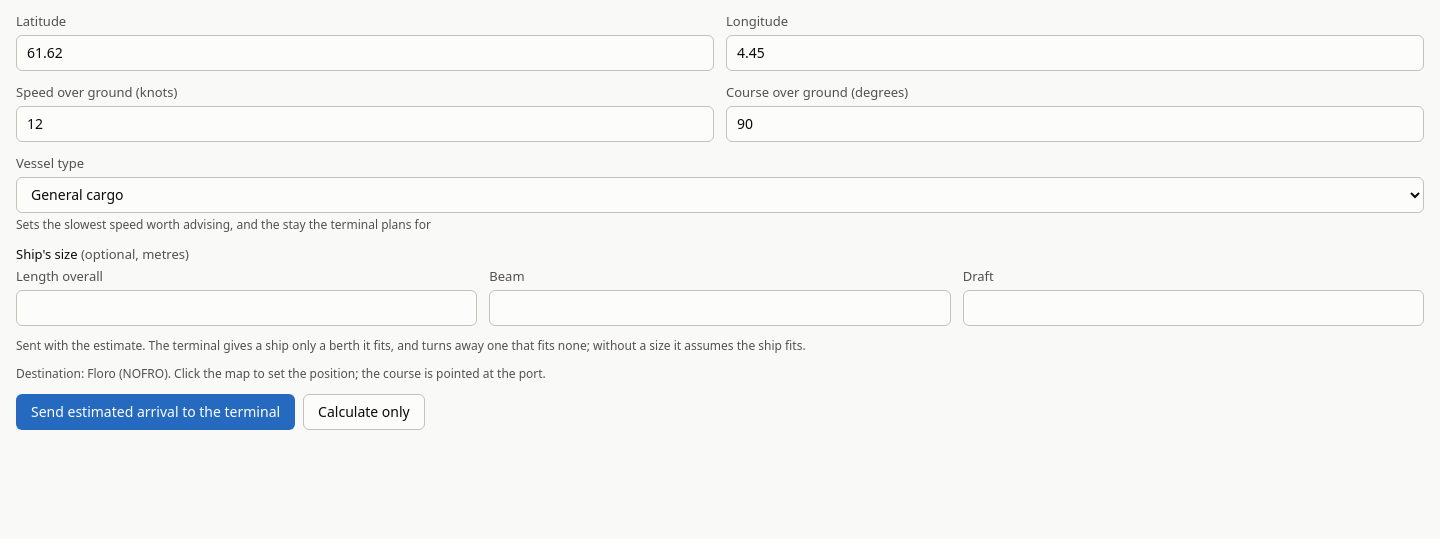
Test: PositionForm › sends the ship's size with the estimate when one is given, and checks it first
The image size is (1440, 539).
In the field labelled "Length overall": (247, 308) [16,290,477,326], type "120"
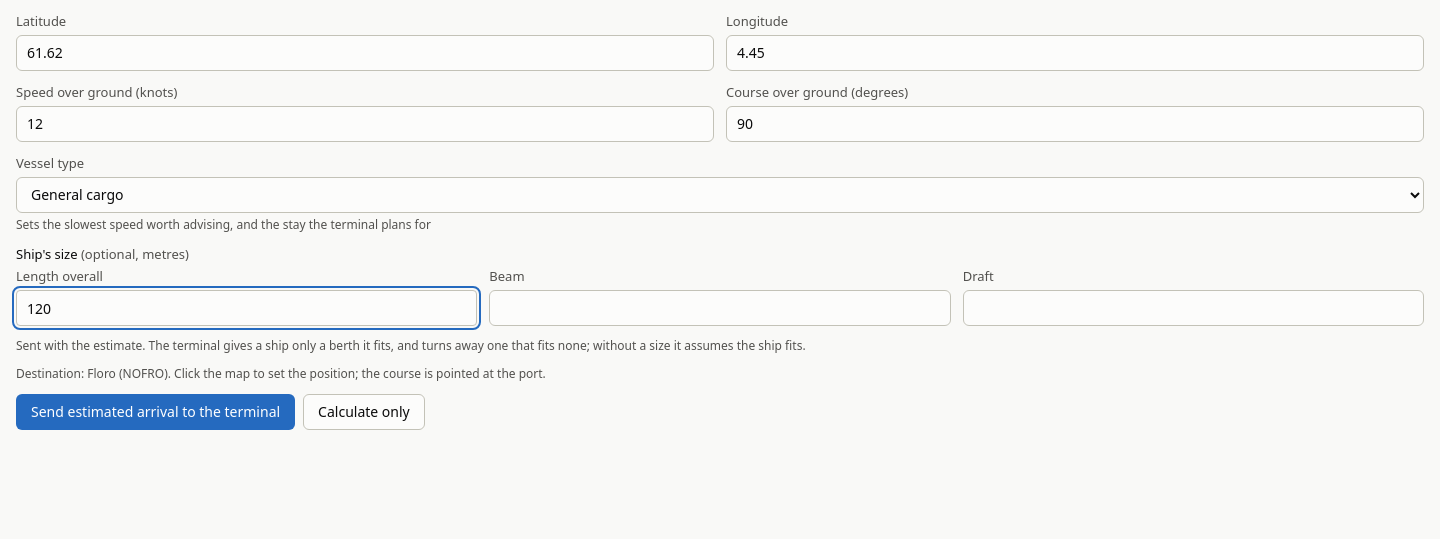
In the field labelled "Draft": (1193, 308) [963,290,1424,326], type "-2"
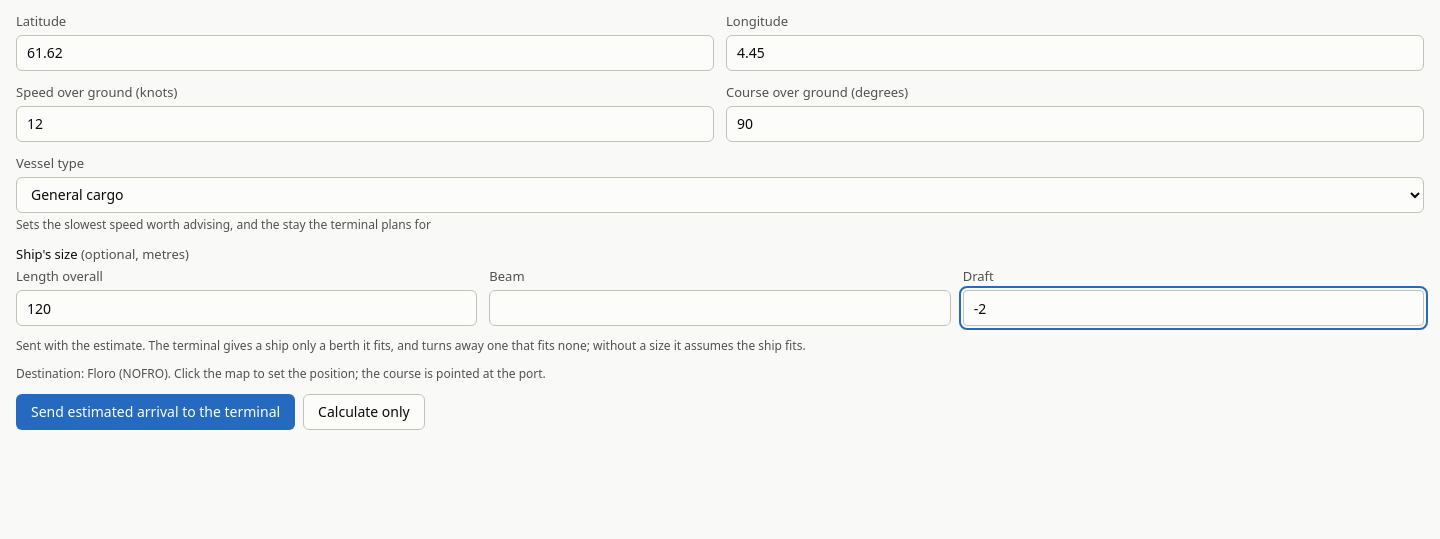
Click the button "Send estimated arrival to the terminal": (156, 412) [16,394,295,430]
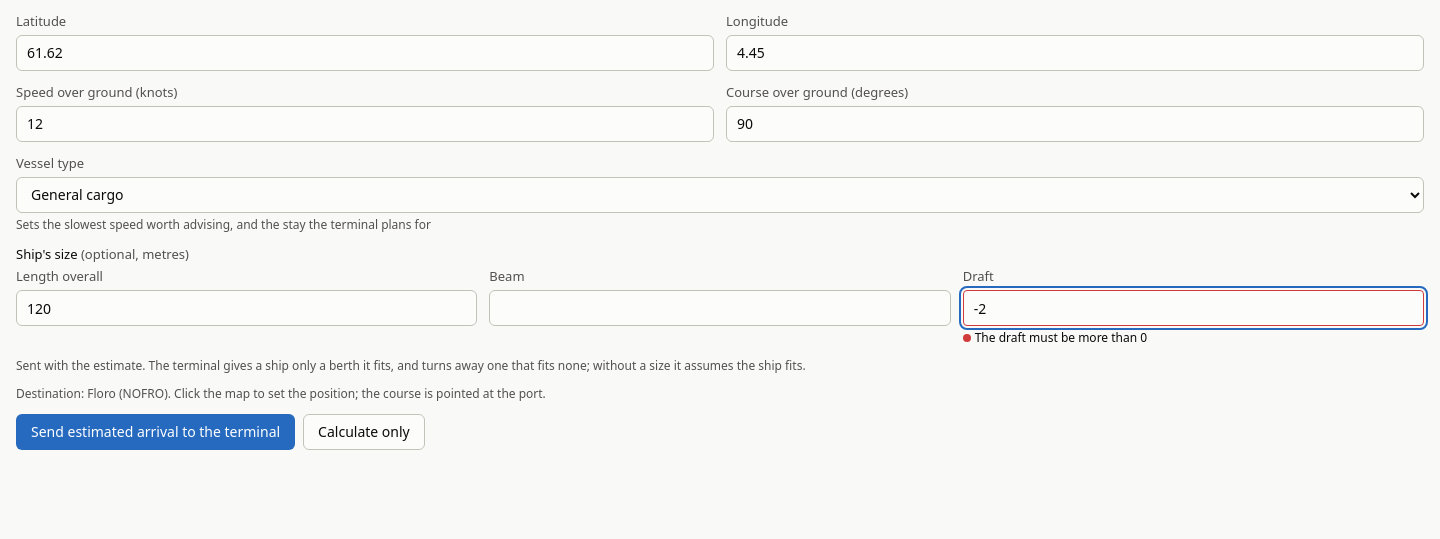
Now the text "The draft must be more than 0" is shown, box [963,329,1147,346]
Replace the text in the field labelled "Draft" with "7.5": (1193, 308) [963,290,1424,326]
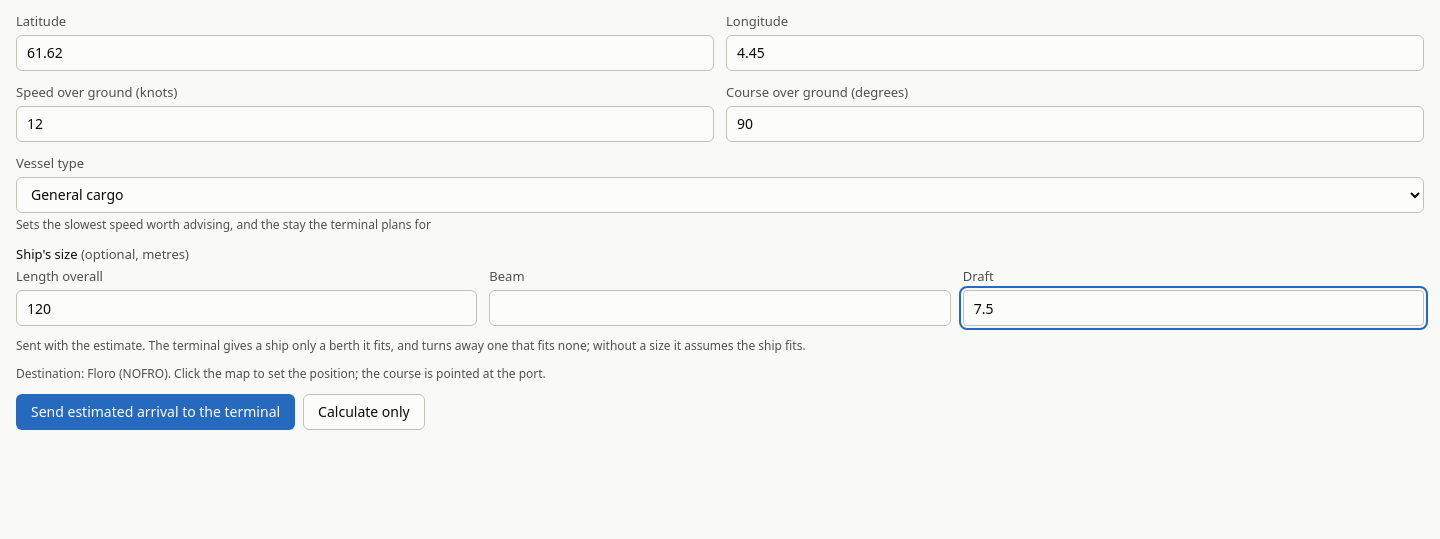
Click the button "Send estimated arrival to the terminal": (156, 412) [16,394,295,430]
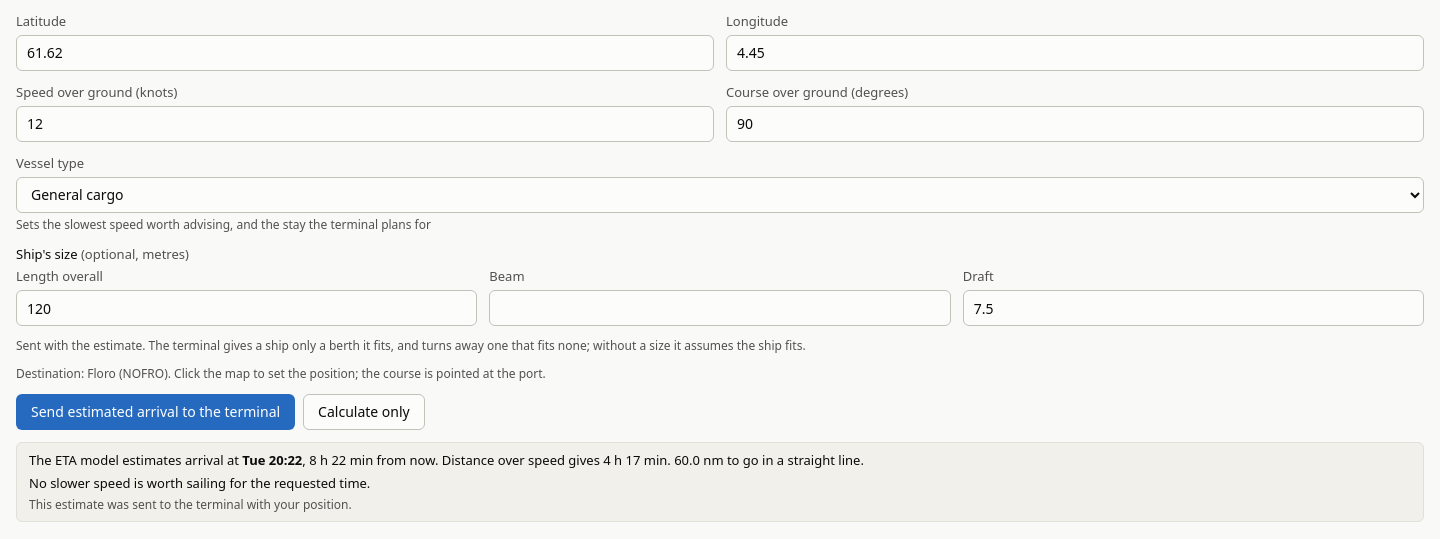
Now the text "This estimate was sent to the terminal with your position." is shown, box [29,496,352,513]
